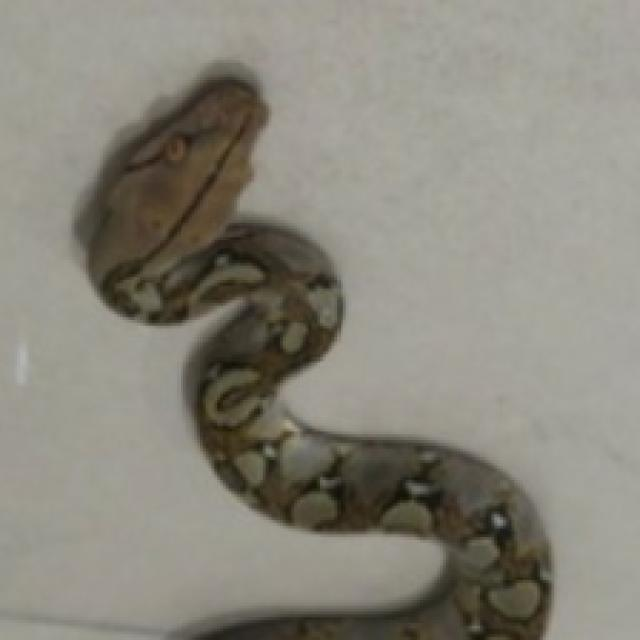reticulated python: (80, 77, 549, 637)
